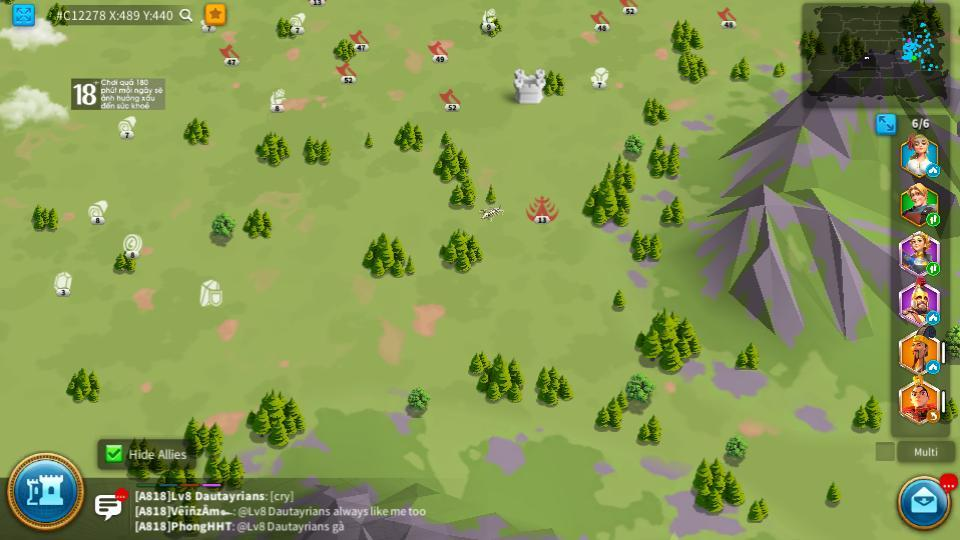gem-z-out: (53, 272, 75, 294)
march_idle: (927, 312, 940, 324), (927, 362, 940, 373), (928, 164, 940, 175)
march_marching: (925, 263, 938, 275), (927, 215, 940, 226)
march_returning: (926, 411, 940, 422)
